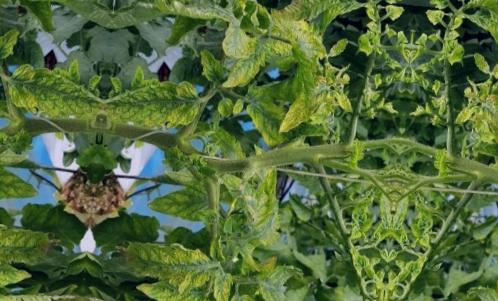Tomato leaf yellow virus: (103, 231, 221, 298), (100, 69, 214, 137), (273, 0, 363, 44), (144, 176, 216, 225), (265, 86, 325, 140), (222, 37, 271, 100), (137, 0, 228, 26), (218, 18, 256, 64), (76, 293, 183, 301), (225, 287, 260, 301), (219, 0, 255, 4)
